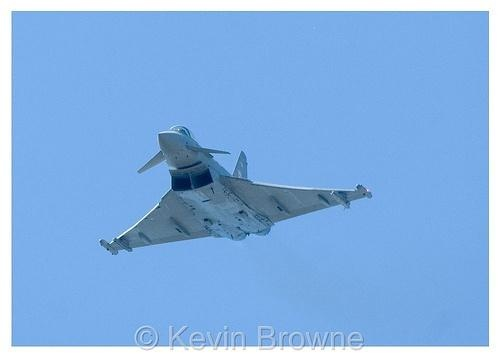aeroplane: (99, 124, 375, 257)
